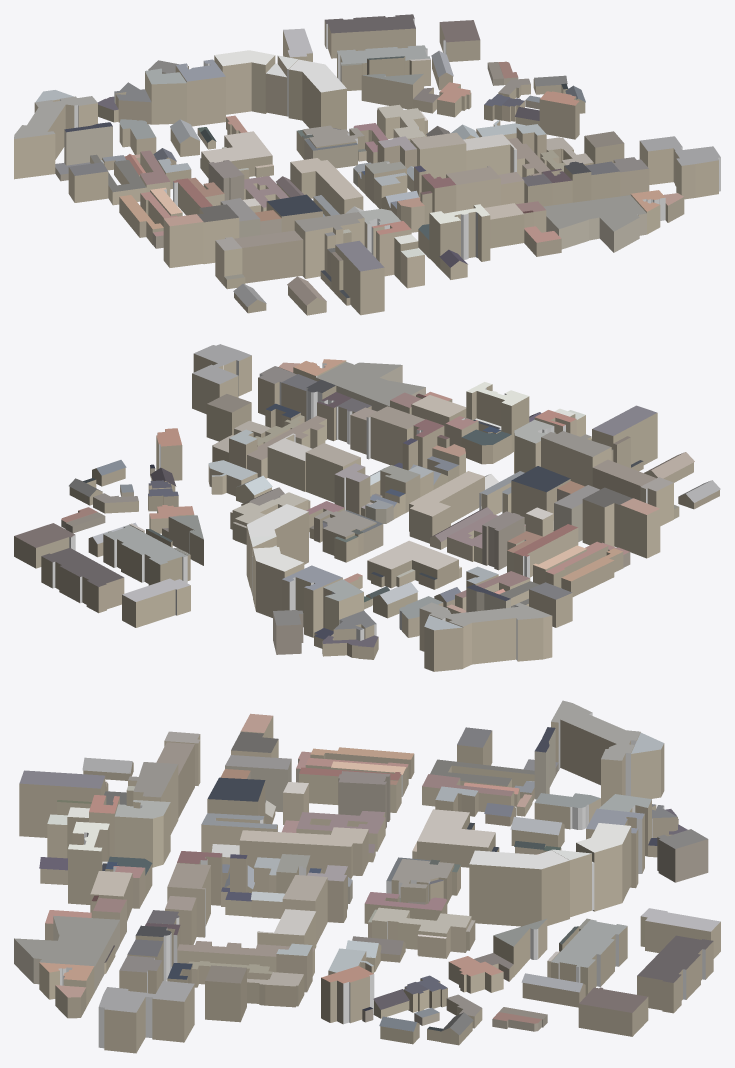
3 renders of one model, top to bottom at view 1: azimuth 30°, elevation 25°; view 2: azimuth 150°, elevation 25°; view 3: azimuth 270°, elevation 25°, orthographic. The views are drawn at different scales.
Parts seen in each view (by area): view 1: tuile; view 2: tuile; view 3: tuile.
Boxes of the visible parts, box(x1,y1,x2,y2) form: tuile: box(14, 14, 720, 315); tuile: box(14, 344, 720, 671); tuile: box(14, 700, 720, 1053).
Bounding box in the file's own units: 281 × 27.74 × 274.
